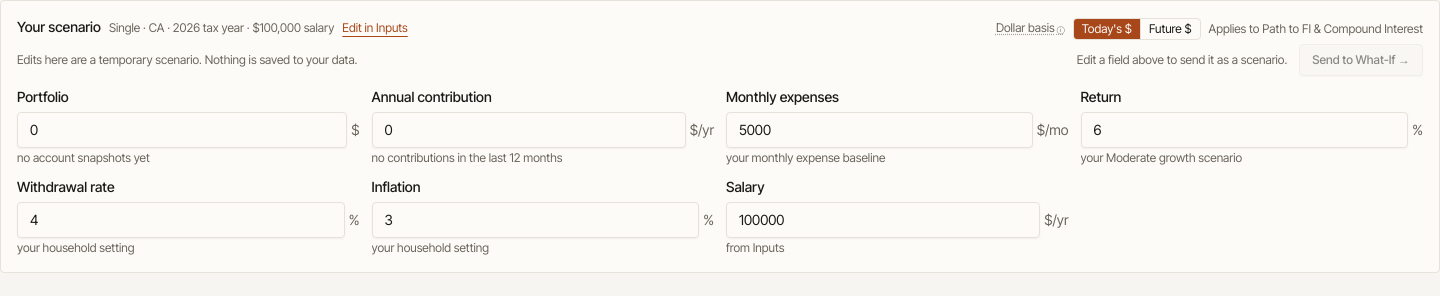
it: ScenarioBar › per-field reset restores the default; Reset to my data clears everything
Replace the text in the number field labelled "Monthly expenses" with "6500" at (879,130), box [726,112,1033,148]
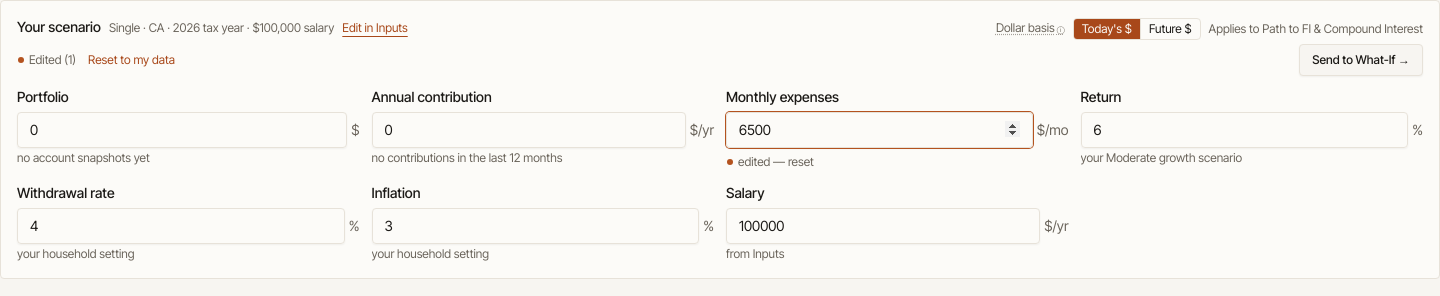
Click the button with aria-label "Reset Monthly expenses to your data".
click(770, 162)  # box [726,154,814,170]
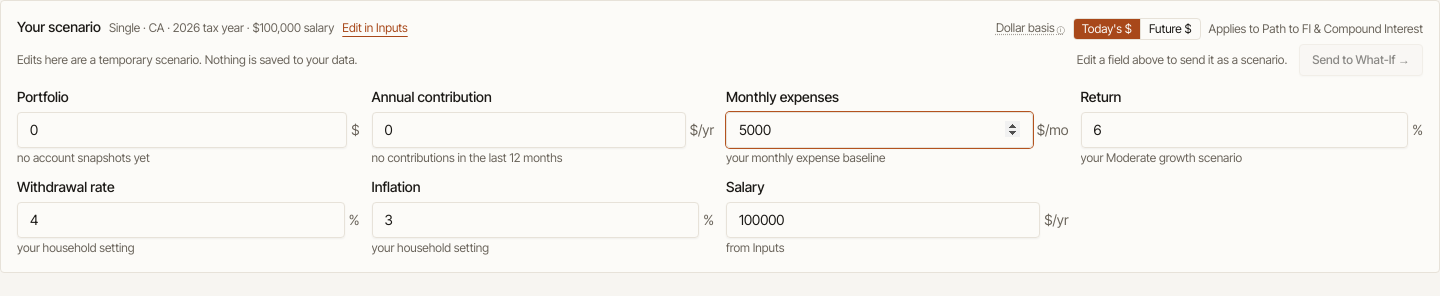
expect the number field labelled "Monthly expenses" holds "5000": met
Replace the text in the number field labelled "Monthly expenses" with "7000" at (879,130), box [726,112,1033,148]
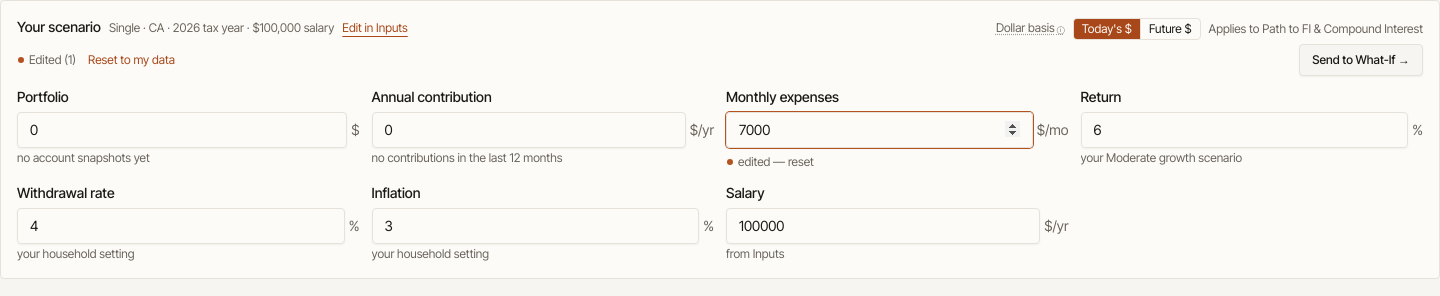
Click the button "Reset to my data".
click(132, 60)  # box [88,52,175,68]
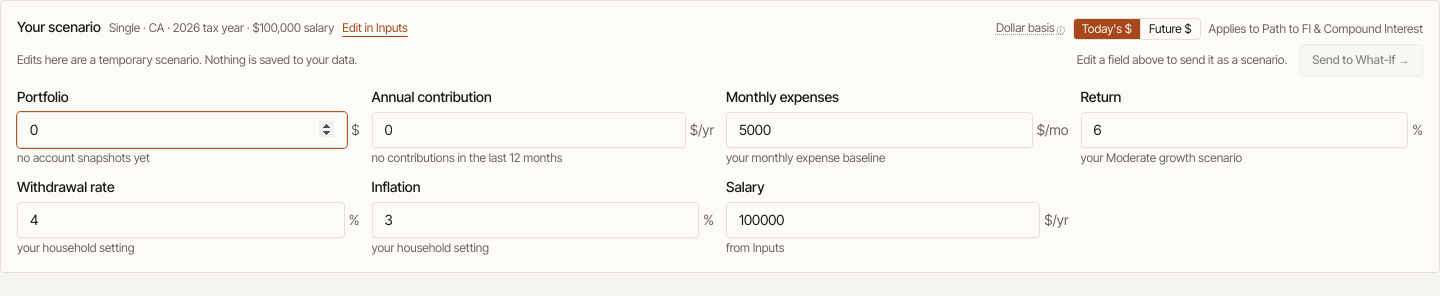
expect the number field labelled "Monthly expenses" holds "5000": met, box [726,112,1033,148]
